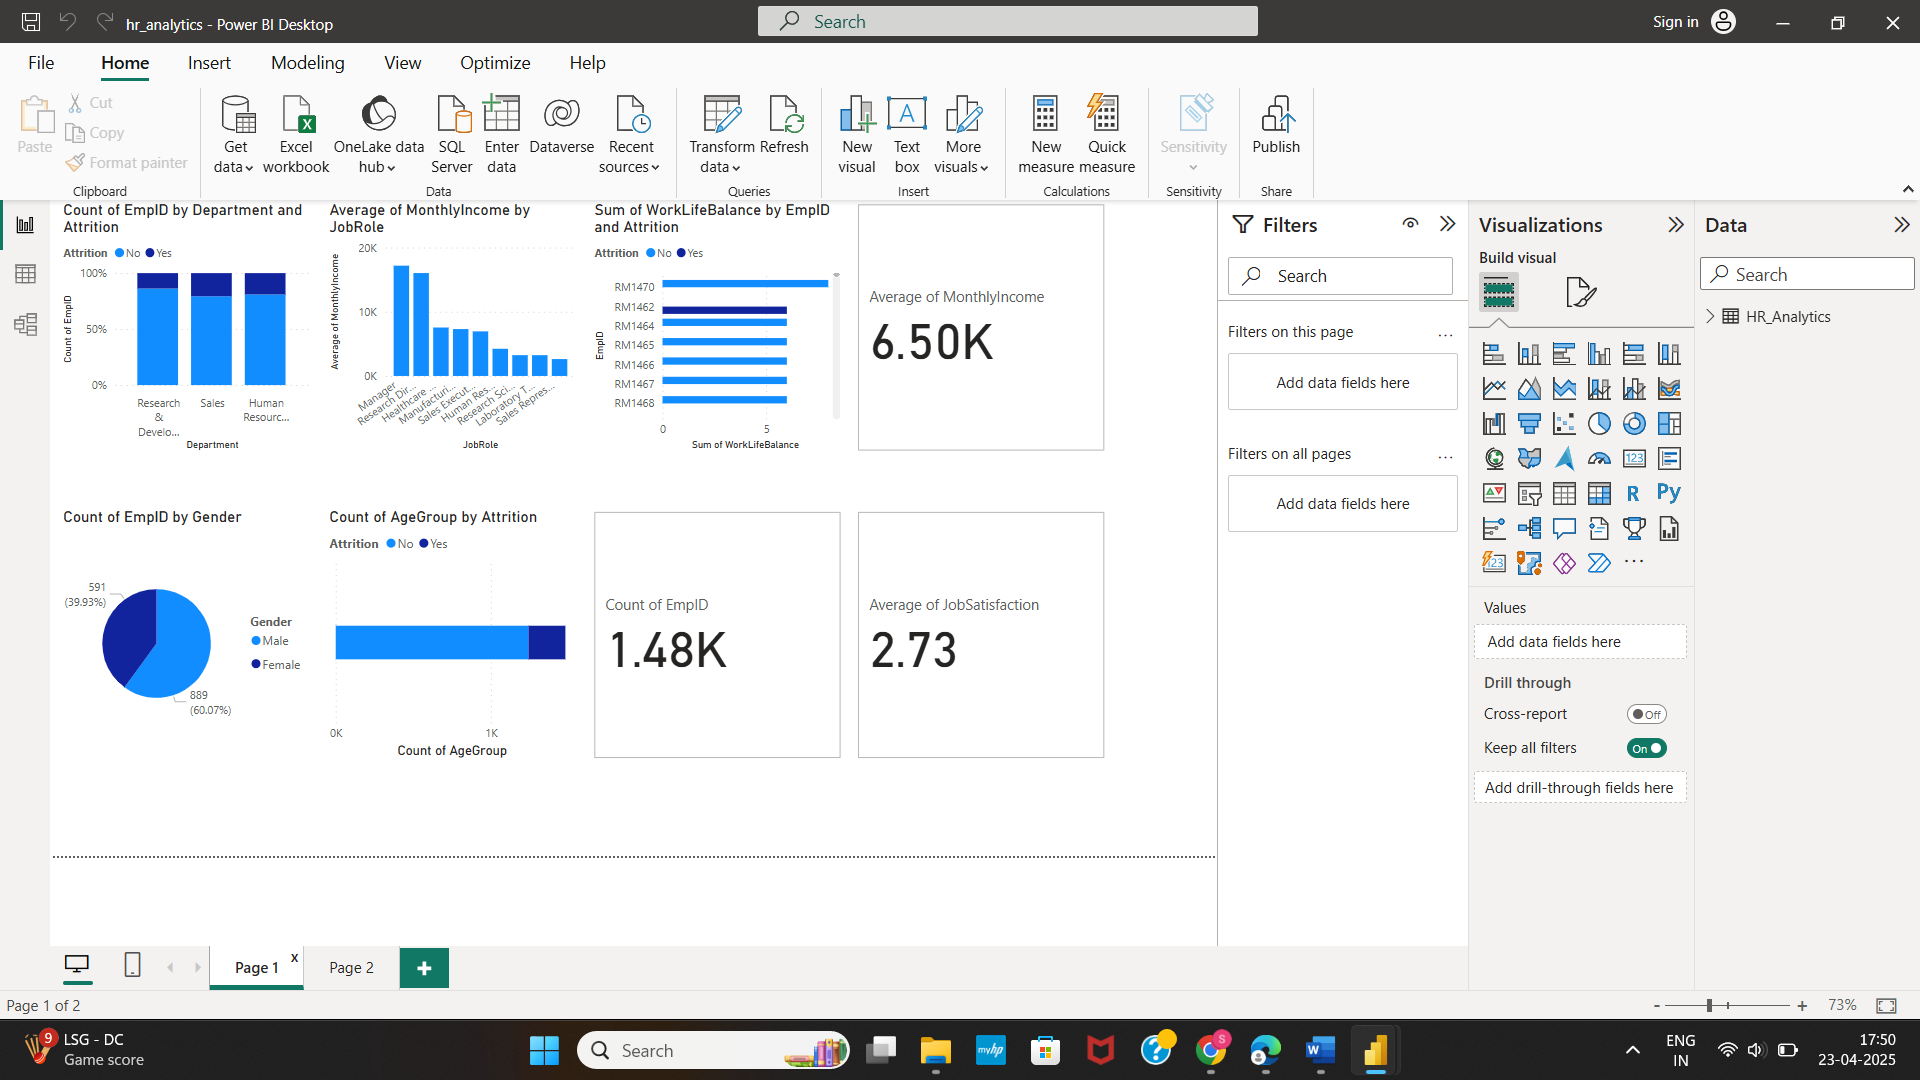

Layout of this report page (visuals, bound fields, positions):
{"tool":"powerbi","page":{"name":"Page 1","canvas":[1280,720],"ordinal":0},"visuals":[{"type":"hundredPercentStackedColumnChart","fields":{"Category":["HR_Analytics.Department"],"Y":["CountNonNull(HR_Analytics.EmpID)"],"Series":["HR_Analytics.Attrition"]},"box":[10,0,280,280],"z":0},{"type":"pieChart","fields":{"Category":["HR_Analytics.Gender"],"Y":["CountNonNull(HR_Analytics.EmpID)"]},"box":[9.6,337.3,281.1,279.7],"z":1000},{"type":"clusteredColumnChart","fields":{"Category":["HR_Analytics.JobRole"],"Y":["Avg(HR_Analytics.MonthlyIncome)"]},"box":[301,0,280,280],"z":2000},{"type":"barChart","fields":{"Y":["CountNonNull(HR_Analytics.AgeGroup)"],"Series":["HR_Analytics.Attrition"]},"box":[301.6,337.3,279.7,279.7],"z":3000},{"type":"clusteredBarChart","fields":{"Y":["Sum(HR_Analytics.WorkLifeBalance)"],"Series":["HR_Analytics.Attrition"],"Category":["HR_Analytics.EmpID"]},"box":[592.3,0,279.7,279.7],"z":4000},{"type":"cardVisual","fields":{"Data":["CountNonNull(HR_Analytics.EmpID)"]},"box":[592,337,280,280],"z":5000},{"type":"cardVisual","fields":{"Data":["Avg(HR_Analytics.MonthlyIncome)"]},"box":[882,0,280,280],"z":6000},{"type":"cardVisual","fields":{"Data":["Avg(HR_Analytics.JobSatisfaction)"]},"box":[882,337,280,280],"z":7000}]}

Visuals, with their boxes on the page's 1280x720 design canvas (x1, y1, x2, y2). These are canvas units, not pixel positions in the 1920x1080 screenshot, which may show the page scaled, cropped or inside an application window:
hundredPercentStackedColumnChart - HR_Analytics.Department x CountNonNull(HR_Analytics.EmpID): (x1=10, y1=0, x2=290, y2=280)
pieChart - HR_Analytics.Gender x CountNonNull(HR_Analytics.EmpID): (x1=10, y1=337, x2=291, y2=617)
clusteredColumnChart - HR_Analytics.JobRole x Avg(HR_Analytics.MonthlyIncome): (x1=301, y1=0, x2=581, y2=280)
barChart - CountNonNull(HR_Analytics.AgeGroup) x HR_Analytics.Attrition: (x1=302, y1=337, x2=581, y2=617)
clusteredBarChart - Sum(HR_Analytics.WorkLifeBalance) x HR_Analytics.Attrition: (x1=592, y1=0, x2=872, y2=280)
cardVisual - CountNonNull(HR_Analytics.EmpID): (x1=592, y1=337, x2=872, y2=617)
cardVisual - Avg(HR_Analytics.MonthlyIncome): (x1=882, y1=0, x2=1162, y2=280)
cardVisual - Avg(HR_Analytics.JobSatisfaction): (x1=882, y1=337, x2=1162, y2=617)
